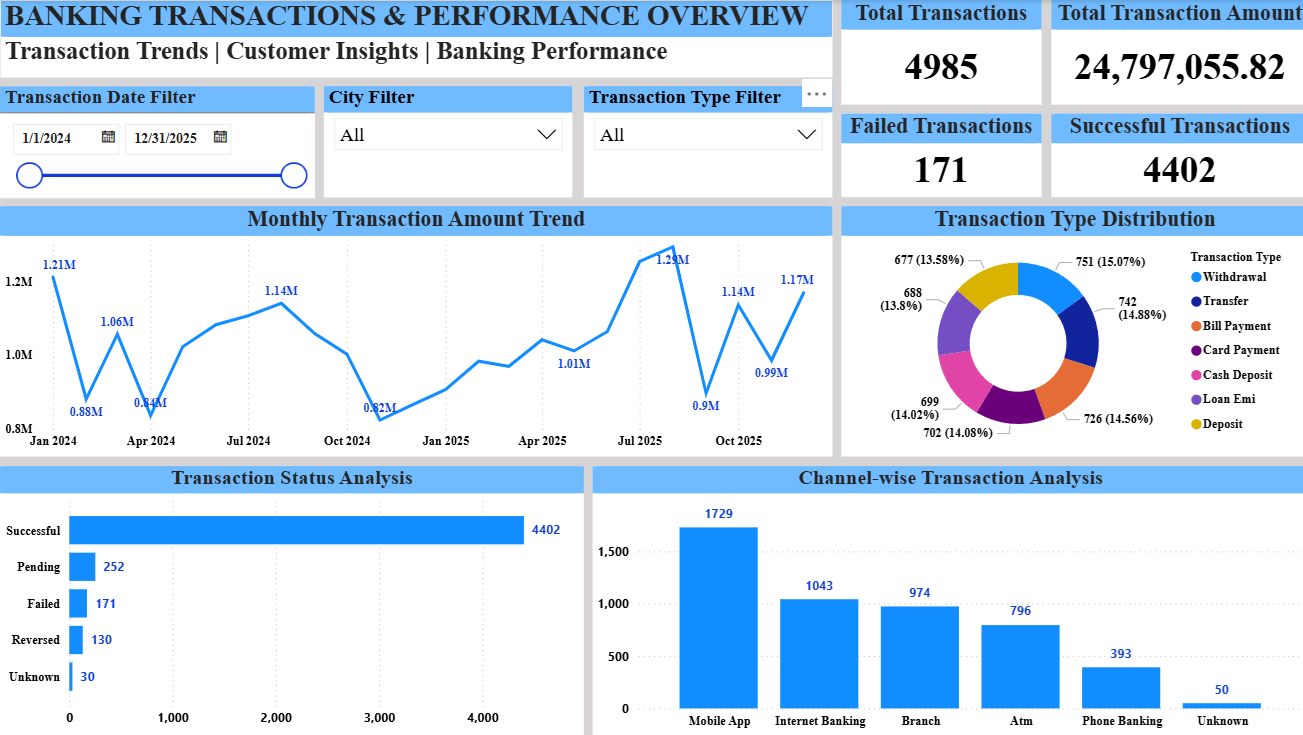

The dashboard page shown, as its layout file describes it:
{"tool":"powerbi","page":{"name":"Banking Overview","canvas":[1280,720],"ordinal":0},"visuals":[{"type":"card","title":"Total Transactions","fields":{"Values":["CountNonNull(Table1.Transaction ID)"]},"box":[823,0,195.7,102.7],"z":0},{"type":"card","title":"Failed Transactions","fields":{"Values":["CountNonNull(Table1.Transaction ID)"]},"box":[823,111.3,195.7,81.9],"z":1000},{"type":"card","title":"Successful Transactions","fields":{"Values":["CountNonNull(Table1.Transaction ID)"]},"box":[1028.4,111.3,251.9,81.9],"z":2000},{"type":"card","title":"Total Transaction Amount","fields":{"Values":["Sum(Table1.Transaction Amount INR)"]},"box":[1028.4,0,251.9,102.7],"z":3000},{"type":"lineChart","title":"Monthly Transaction Amount Trend","fields":{"Y":["Sum(Table1.Transaction Amount INR)"],"Category":["Table1.Transaction Date.Variation.Date Hierarchy.Year","Table1.Transaction Date.Variation.Date Hierarchy.Month"]},"box":[0,201.8,814.4,244.6],"z":4000},{"type":"donutChart","title":"Transaction Type Distribution","fields":{"Y":["CountNonNull(Table1.Transaction ID)"],"Category":["Table1.Transaction Type"]},"box":[823,201.8,457.3,244.6],"z":5000},{"type":"clusteredBarChart","title":"Transaction Status Analysis","fields":{"Y":["CountNonNull(Table1.Transaction ID)"],"Category":["Table1.Transaction Status"]},"box":[0,456.1,571.1,264.1],"z":6000},{"type":"clusteredColumnChart","title":"Channel-wise Transaction Analysis","fields":{"Y":["CountNonNull(Table1.Transaction ID)"],"Category":["Table1.Channel"]},"box":[579.6,456.1,700.7,264.1],"z":7000},{"type":"slicer","title":"Transaction Type Filter","fields":{"Values":["Table1.Transaction Type"]},"box":[571.1,84.4,243.3,108.8],"z":8000},{"type":"slicer","title":"City Filter","fields":{"Values":["Table1.City"]},"box":[316.7,84.4,243.3,108.8],"z":9000},{"type":"slicer","title":"Transaction Date Filter","fields":{"Values":["Table1.Transaction Date"]},"box":[0,84.4,308.2,108.8],"z":10000},{"type":"textbox","title":"BANKING TRANSACTIONS & PERFORMANCE OVERVIEW","box":[0,0,814.4,75.8],"z":11000}]}

Visuals, with their boxes in screenshot pixels (x1, y1, x2, y2), scaled from the page's 1280x720 canvas onto the 1303x735 screenshot:
"Total Transactions" card: (left=838, top=0, right=1037, bottom=105)
"Failed Transactions" card: (left=838, top=114, right=1037, bottom=197)
"Successful Transactions" card: (left=1047, top=114, right=1302, bottom=197)
"Total Transaction Amount" card: (left=1047, top=0, right=1302, bottom=105)
"Monthly Transaction Amount Trend" lineChart: (left=0, top=206, right=829, bottom=456)
"Transaction Type Distribution" donutChart: (left=838, top=206, right=1302, bottom=456)
"Transaction Status Analysis" clusteredBarChart: (left=0, top=466, right=581, bottom=734)
"Channel-wise Transaction Analysis" clusteredColumnChart: (left=590, top=466, right=1302, bottom=734)
"Transaction Type Filter" slicer: (left=581, top=86, right=829, bottom=197)
"City Filter" slicer: (left=322, top=86, right=570, bottom=197)
"Transaction Date Filter" slicer: (left=0, top=86, right=314, bottom=197)
"BANKING TRANSACTIONS & PERFORMANCE OVERVIEW" textbox: (left=0, top=0, right=829, bottom=77)
